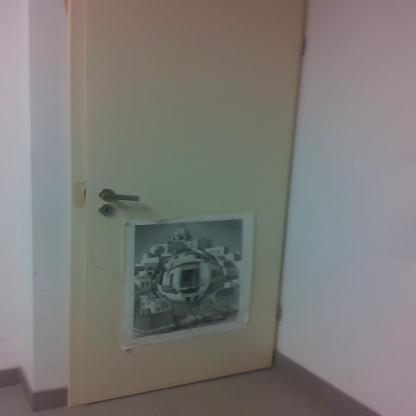door: (81, 0, 278, 378)
hinged: (276, 302, 286, 326), (296, 34, 306, 56)
lever: (102, 189, 146, 203)
